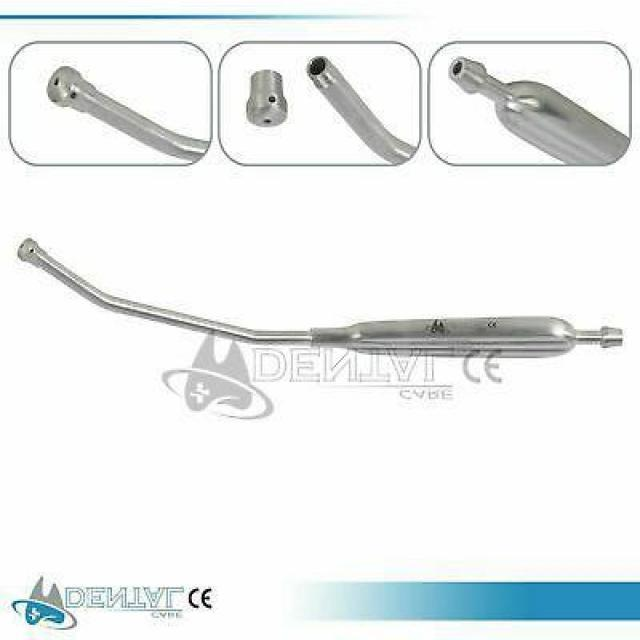Yankauer: (14, 233, 624, 363), (446, 51, 621, 163), (45, 64, 206, 160), (300, 51, 412, 163), (243, 66, 290, 132)
